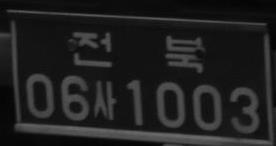0: (154, 80, 186, 127), (191, 83, 222, 131), (25, 73, 55, 119)
1: (122, 78, 150, 126)
3: (229, 85, 260, 135)
6: (59, 74, 90, 122)
사: (92, 79, 117, 120)
전북_D: (72, 30, 204, 74)
